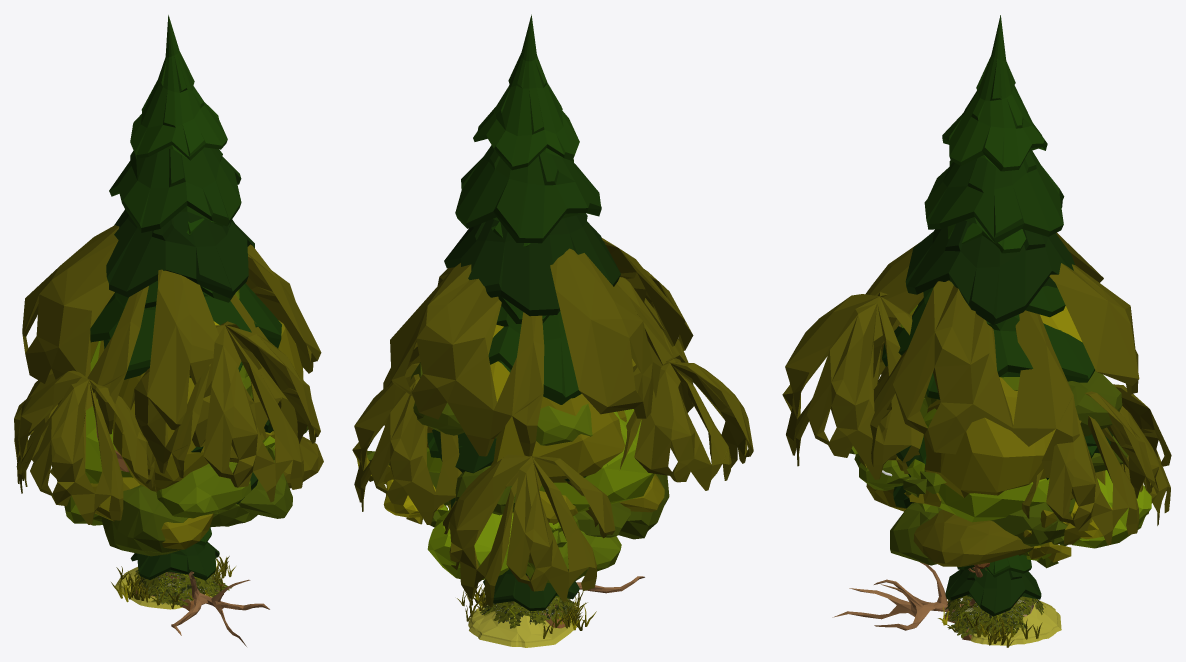
Rendered from cego_flora.fbx.
3 views of the same model, side by side, from view 1: azimuth 30°, elevation 25°; view 2: azimuth 150°, elevation 25°; view 3: azimuth 270°, elevation 25° (orthographic). The views are drawn at different scales.
Parts seen in each view (by area): view 1: cego_tree.willow, cego_tree.pine.huge, cego_tree.elm.thick, cego_tree.oak.tall, cego_tree.elm.thin, cego_tree.pine.short, cego_tree.oak.short, cego_tree.fallen, cego_bush.tall, cego_tree.pine.tall, cego_grass.surround, cego_bush.short (+2 smaller); view 2: cego_tree.willow, cego_tree.pine.huge, cego_tree.elm.thick, cego_tree.oak.tall, cego_tree.oak.short, cego_tree.fallen, cego_tree.elm.thin, cego_tree.pine.short, cego_bush.tall, cego_tree.birch.thick, cego_tree.pine.tall; view 3: cego_tree.willow, cego_tree.pine.huge, cego_tree.elm.thick, cego_tree.oak.tall, cego_tree.elm.thin, cego_tree.pine.short, cego_tree.fallen, cego_tree.birch.thick, cego_tree.oak.short, cego_tree.pine.tall, cego_bush.tall, cego_grass.surround.
Part boxes in pixels (box(x1,y1,x2,y2)): cego_tree.willow: box(14, 225, 321, 611); cego_tree.pine.huge: box(90, 15, 281, 452); cego_tree.elm.thick: box(64, 376, 292, 556); cego_tree.oak.tall: box(57, 320, 303, 491); cego_tree.elm.thin: box(90, 428, 323, 549); cego_tree.pine.short: box(130, 527, 219, 580); cego_tree.oak.short: box(71, 289, 257, 527); cego_tree.fallen: box(115, 567, 269, 646); cego_bush.tall: box(134, 570, 222, 601); cego_tree.pine.tall: box(103, 218, 235, 349); cego_grass.surround: box(116, 563, 223, 608); cego_bush.short: box(143, 571, 231, 606); cego_tree.willow: box(352, 237, 753, 628); cego_tree.pine.huge: box(432, 14, 620, 481); cego_tree.elm.thick: box(389, 362, 669, 583); cego_tree.oak.tall: box(408, 324, 641, 482); cego_tree.oak.short: box(427, 409, 654, 567); cego_tree.fallen: box(468, 576, 644, 647); cego_tree.elm.thin: box(383, 474, 664, 524); cego_tree.pine.short: box(483, 569, 579, 610); cego_bush.tall: box(481, 596, 577, 628); cego_tree.birch.thick: box(357, 451, 566, 563); cego_tree.pine.tall: box(427, 221, 549, 458); cego_tree.willow: box(782, 232, 1171, 640); cego_tree.pine.huge: box(882, 15, 1112, 569); cego_tree.elm.thick: box(854, 305, 1151, 565); cego_tree.oak.tall: box(887, 305, 1082, 497); cego_tree.elm.thin: box(866, 409, 1112, 570); cego_tree.pine.short: box(945, 555, 1041, 616); cego_tree.fallen: box(832, 562, 1061, 645); cego_tree.birch.thick: box(849, 446, 1092, 568); cego_tree.oak.short: box(924, 377, 1049, 522); cego_tree.pine.tall: box(918, 223, 1096, 572); cego_bush.tall: box(944, 595, 1045, 634); cego_grass.surround: box(938, 599, 1042, 639).
Bounding box in the file's own units: 17.86 × 32.3 × 18.74.
Materials: 2 (2 with a texture image).
